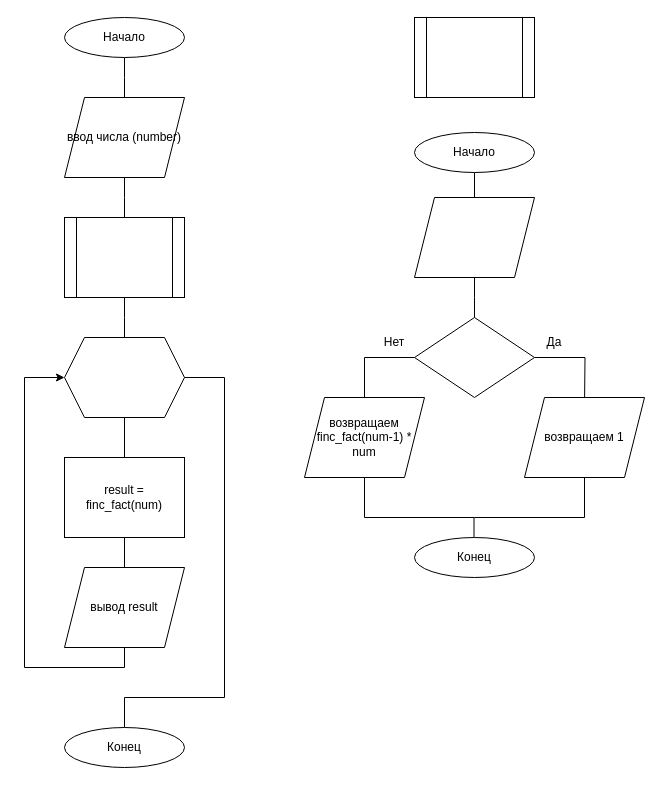
Image size: 662x785. Some labels were removed from this diagram. The shapes that lost their labels are listed below. From the top down, each one's centre as x and y in pixels, then its label:
the point at 474,57: find_fact(num)
the point at 124,257: функция нахождения факториала find_fact(num)
the point at 474,237: получаем число num
the point at 124,377: перебор чисел num от 1 до number включительно
the point at 474,357: num равен 1
